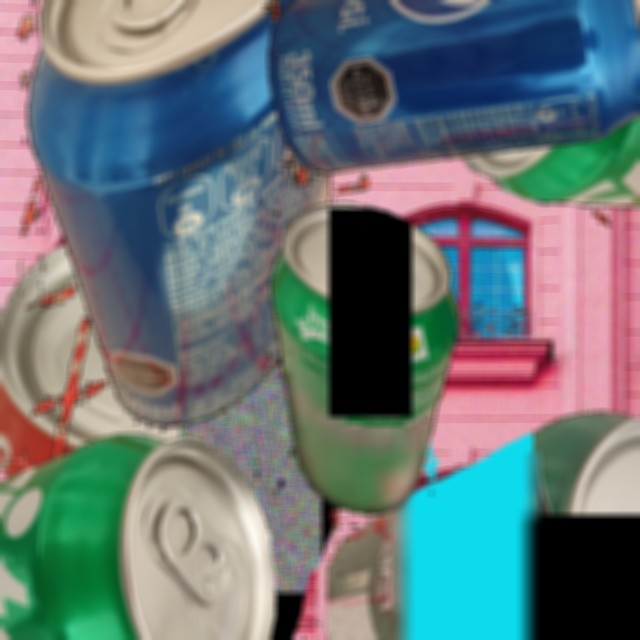coca cola: (0, 201, 384, 640)
pepsi: (0, 0, 553, 508), (231, 0, 640, 233)
schweppes: (327, 394, 640, 640)
sprite: (186, 169, 517, 523), (0, 416, 290, 640), (423, 0, 640, 282)
